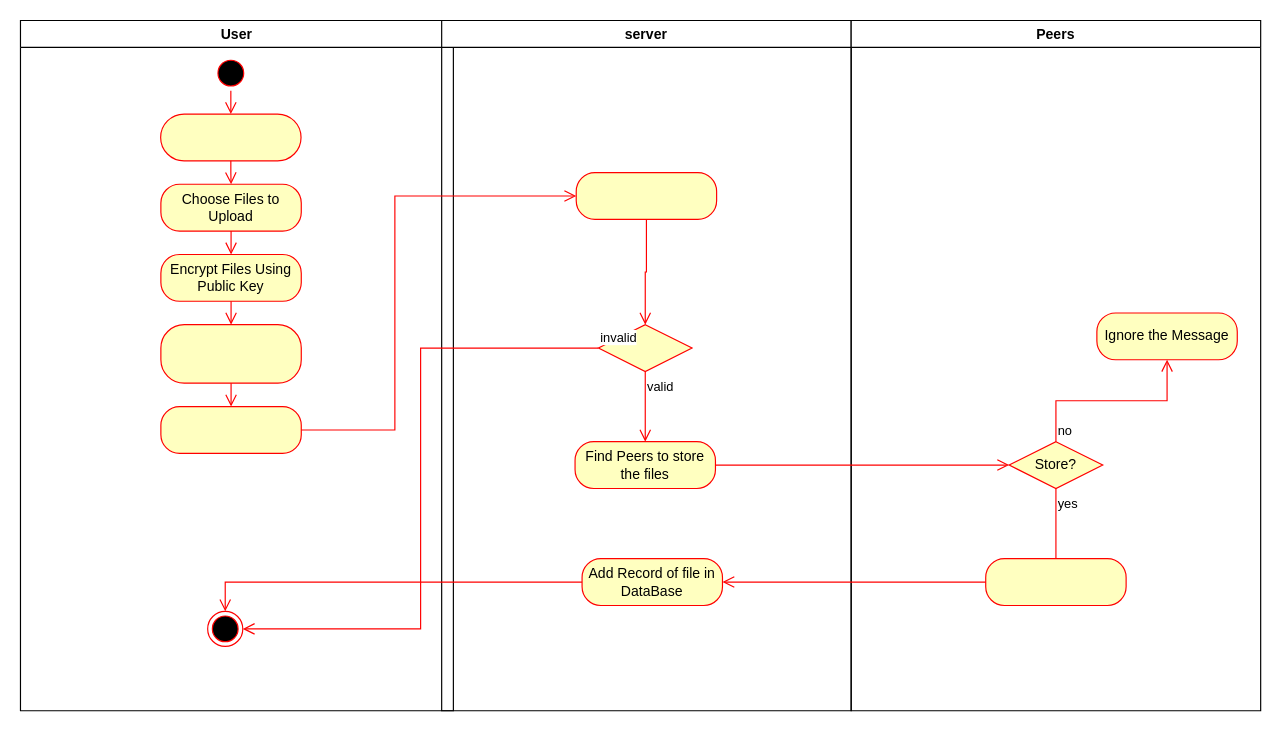
The diagram is 1281 pixels wide and 731 high, and some of its shapes have lost their labels. Each missing label, with the centre of its shape:
"Add Headers and Sign the message using Private Key" belongs at pixel 230 353.
"Click on Upload button" belongs at pixel 230 137.
"Notify Server" belongs at pixel 1055 581.
"Send" belongs at pixel 230 429.
"Validate the Signature" belongs at pixel 646 195.
